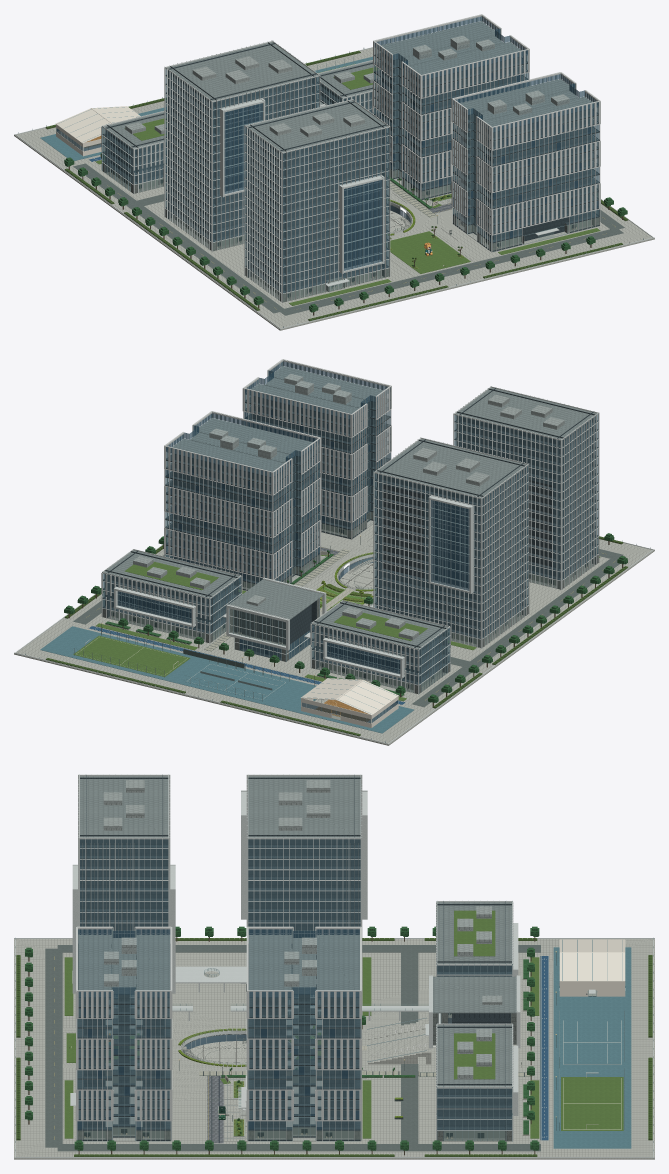
Rendered from HKU-Shanghai-Opening.glb.
3 views of the same model, one above another, from view 1: azimuth 30°, elevation 25°; view 2: azimuth 150°, elevation 25°; view 3: azimuth 270°, elevation 25° (orthographic). The views are drawn at different scales.
Visible parts, largest first — view 1: 03_Columns_and_Frames__Silver facade fins (×2), Glass_plane__Glazing_office (×6), 03_Columns_and_Fins__Warm silver aluminium (×2), Glazing_and_grid__Opaque structural core (×6), Perforated_site_paving, 01_MainBody__Opaque facade backing (×2), Roof (×4), Entrance_elevation_Glass_plane__Glazing_office (×2), 07_Roof__Roof membrane (×2), Scenic_facade_recess__Opaque structural core (×4), Reflective_feature_glass (×2), Glazing_and_grid__Silver facade fins (×4) (+27 smaller); view 2: 03_Columns_and_Frames__Silver facade fins (×2), Glass_plane__Glazing_office (×8), 03_Columns_and_Fins__Warm silver aluminium (×2), Glazing_and_grid__Opaque structural core (×8), Perforated_site_paving, Roof (×4), 01_MainBody__Opaque facade backing (×2), Rear_elevation_PROVISIONAL_Glass_plane__Glazing_office (×2), Scenic_facade_recess__Opaque structural core (×4), Sports__Jogging surface, 07_Roof__Roof membrane (×2), Reflective_feature_glass (×3) (+33 smaller); view 3: Perforated_site_paving, Glass_plane__Glazing_office (×4), Roof (×4), 03_Columns_and_Fins__Warm silver aluminium (×2), Tower_core (×2), 07_Roof__Roof membrane (×2), 01_MainBody__Opaque facade backing (×2), Sports__Jogging surface, 03_Columns_and_Frames__Silver facade fins (×2), Side_1_wing_-1_Glass_plane__Glazing_office (×2), Side_1_wing_1_Glass_plane__Glazing_office (×2), Glazing_and_grid__Opaque structural core (×3) (+45 smaller).
Boxes of the visible parts, x1,y1,x2,y2 form: 03_Columns_and_Frames__Silver facade fins (×2): [164, 40, 390, 302]; Glass_plane__Glazing_office (×6): [103, 69, 388, 292]; 03_Columns_and_Fins__Warm silver aluminium (×2): [373, 17, 600, 251]; Glazing_and_grid__Opaque structural core (×6): [165, 43, 389, 293]; Perforated_site_paving: [14, 48, 654, 330]; 01_MainBody__Opaque facade backing (×2): [382, 53, 591, 241]; Roof (×4): [104, 42, 387, 152]; Entrance_elevation_Glass_plane__Glazing_office (×2): [422, 55, 598, 241]; 07_Roof__Roof membrane (×2): [377, 21, 597, 131]; Scenic_facade_recess__Opaque structural core (×4): [168, 77, 387, 292]; Reflective_feature_glass (×2): [224, 103, 382, 270]; Glazing_and_grid__Silver facade fins (×4): [165, 76, 389, 293]; 03_Columns_and_Frames__Silver facade fins (×2): [373, 386, 599, 648]; Glass_plane__Glazing_office (×8): [103, 415, 597, 684]; 03_Columns_and_Fins__Warm silver aluminium (×2): [164, 362, 391, 590]; Glazing_and_grid__Opaque structural core (×8): [103, 388, 598, 684]; Perforated_site_paving: [14, 522, 654, 745]; Roof (×4): [104, 387, 596, 648]; 01_MainBody__Opaque facade backing (×2): [172, 396, 382, 581]; Rear_elevation_PROVISIONAL_Glass_plane__Glazing_office (×2): [165, 395, 350, 583]; Scenic_facade_recess__Opaque structural core (×4): [376, 422, 595, 637]; Sports__Jogging surface: [40, 626, 414, 733]; 07_Roof__Roof membrane (×2): [167, 366, 383, 476]; Reflective_feature_glass (×3): [117, 500, 469, 674]; Perforated_site_paving: [14, 939, 654, 1159]; Glass_plane__Glazing_office (×4): [80, 839, 511, 1129]; Roof (×4): [80, 776, 511, 1086]; 03_Columns_and_Fins__Warm silver aluminium (×2): [76, 927, 361, 1141]; Tower_core (×2): [86, 839, 353, 1003]; 07_Roof__Roof membrane (×2): [78, 935, 359, 997]; 01_MainBody__Opaque facade backing (×2): [84, 994, 354, 1127]; Sports__Jogging surface: [553, 947, 631, 1148]; 03_Columns_and_Frames__Silver facade fins (×2): [72, 774, 367, 1017]; Side_1_wing_-1_Glass_plane__Glazing_office (×2): [136, 998, 360, 1129]; Side_1_wing_1_Glass_plane__Glazing_office (×2): [78, 998, 291, 1129]; Glazing_and_grid__Opaque structural core (×3): [80, 835, 511, 1130].
Bounding box in the file's own units: 208 × 85.6 × 256.
521 materials, 376 textured.
